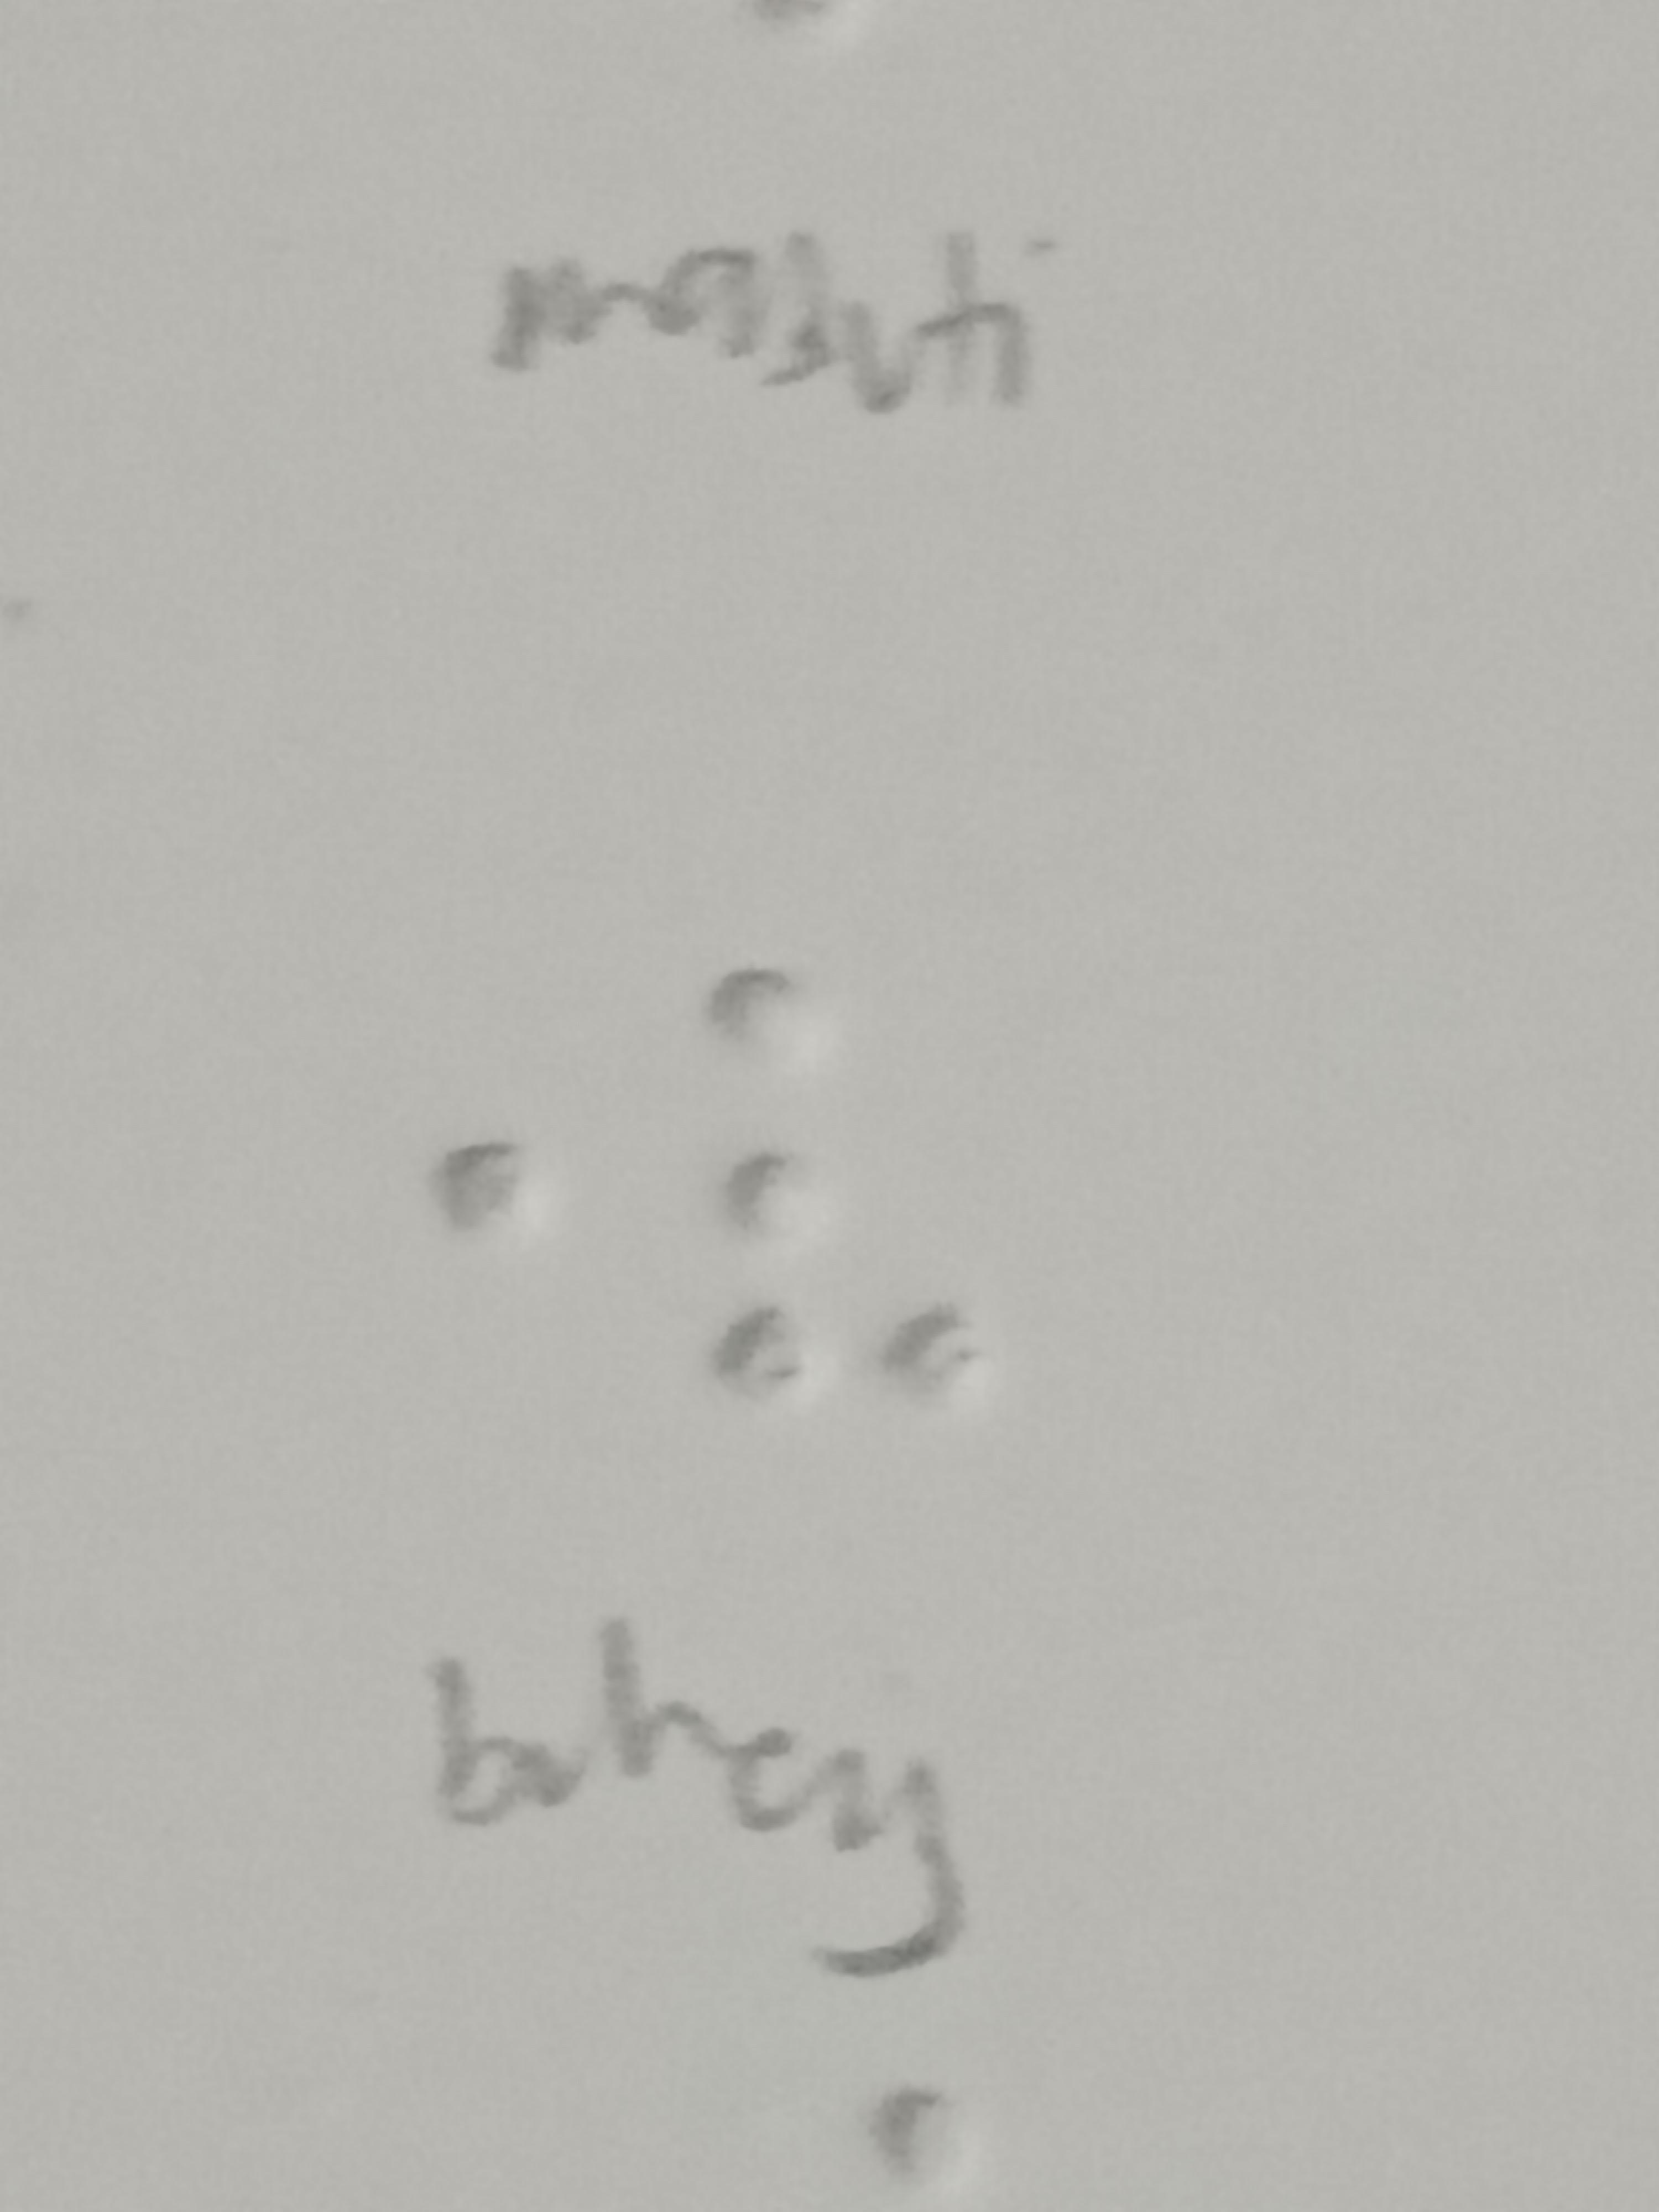dot_5: (272, 953, 554, 1406)
two_cell_alphabet_buhay: (709, 953, 992, 1406)
